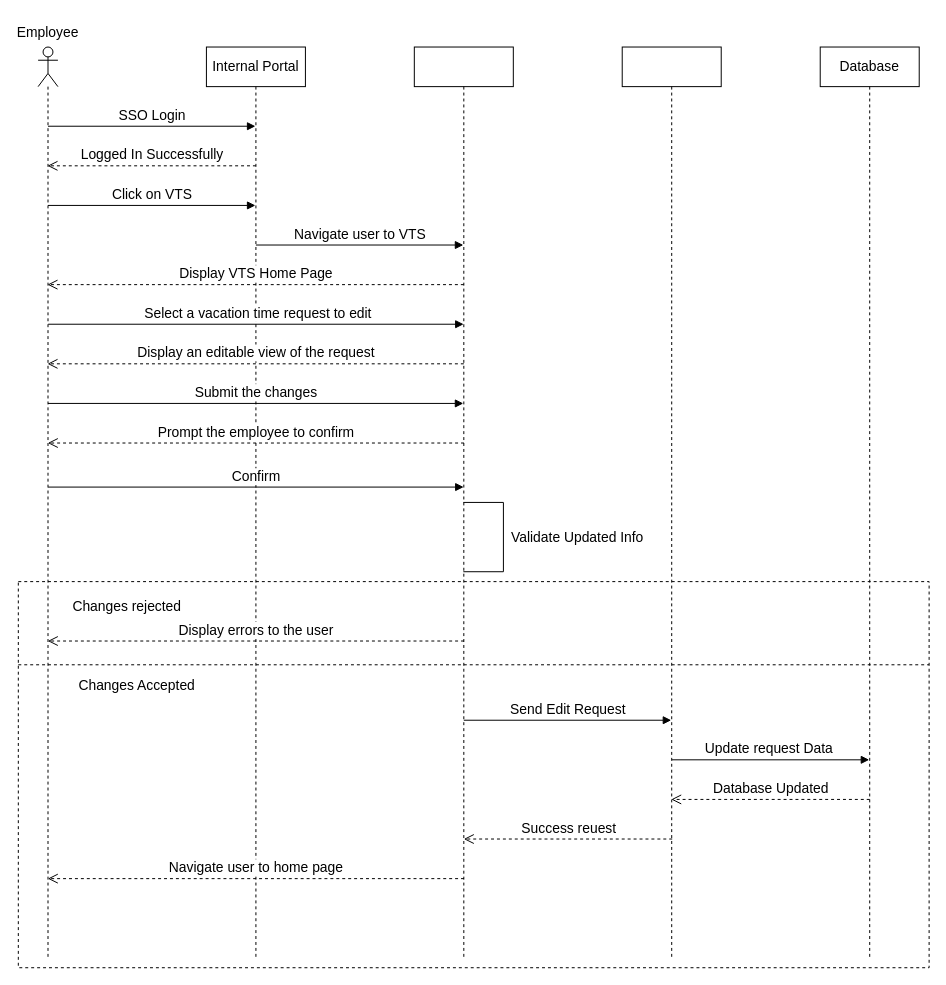
Some shapes in this 946 by 985 pixel diagram are drawn without their labels. The shapes that lost their labels are listed below. From the top down, each one's box as (x1, y1, x2, y2) in pixels, then its label:
(413, 46, 513, 958): VTS
(621, 46, 721, 958): VTS Controller
